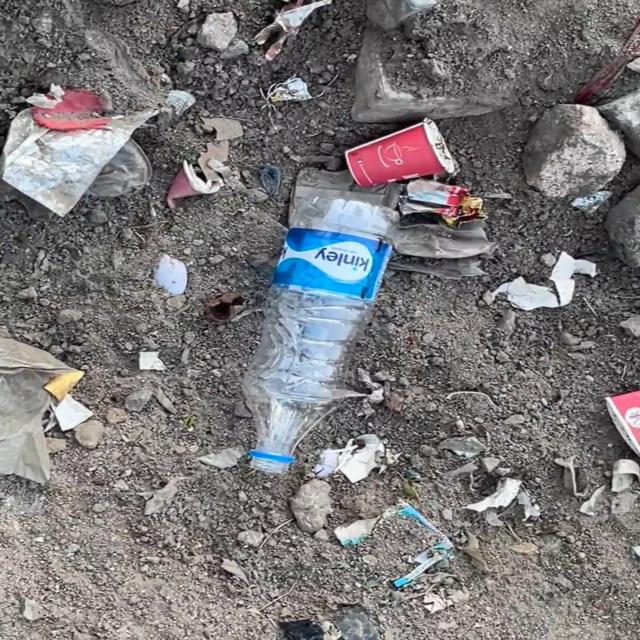dry: (241, 185, 400, 495), (0, 85, 163, 209), (316, 129, 489, 179), (493, 255, 592, 328)
